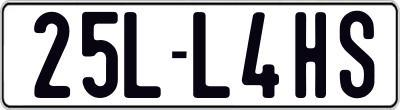2: (32, 12, 68, 100)
4: (241, 11, 280, 99)
5: (80, 10, 122, 98)
H: (292, 12, 328, 104)
L: (190, 12, 231, 103), (123, 12, 166, 98)
S: (340, 11, 378, 102)
